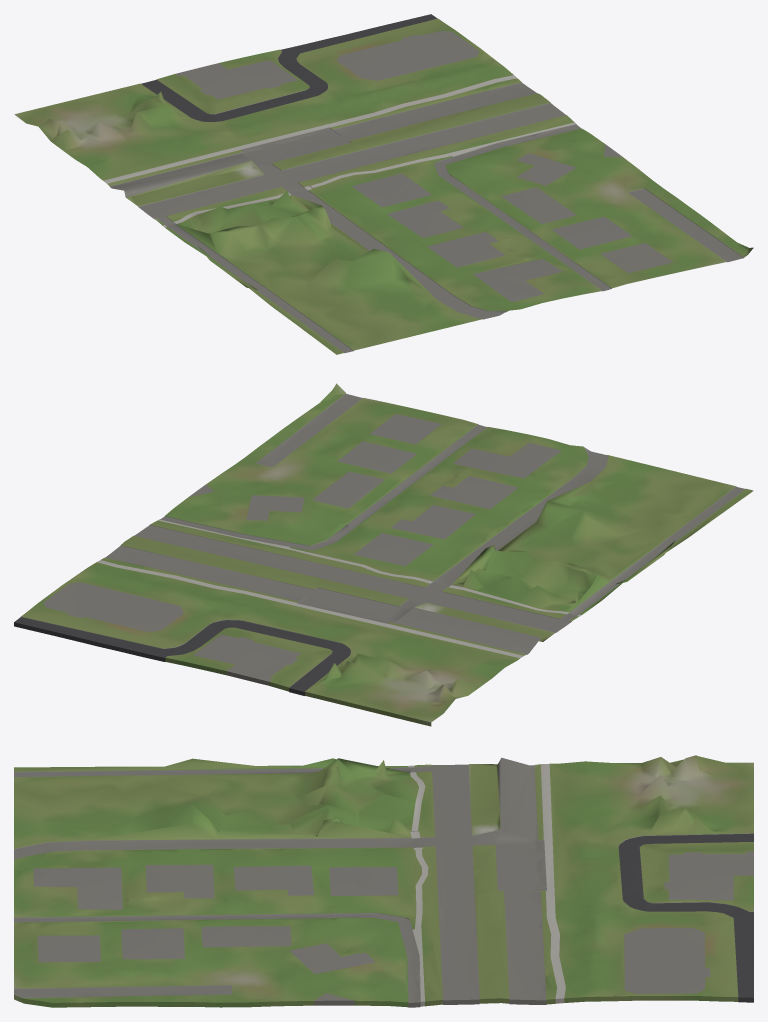
3 renders of one model, top to bottom at view 1: azimuth 30°, elevation 25°; view 2: azimuth 150°, elevation 25°; view 3: azimuth 270°, elevation 25°, orthographic. The views are drawn at different scales.
Parts seen in each view (by area): view 1: T--4-4.L1:utd:matte; view 2: T--4-4.L1:utd:matte; view 3: T--4-4.L1:utd:matte.
Boxes of the visible parts, x1,y1,x2,y2 form: T--4-4.L1:utd:matte: [14, 14, 753, 354]; T--4-4.L1:utd:matte: [14, 383, 753, 726]; T--4-4.L1:utd:matte: [14, 755, 753, 1007].
Bounding box in the file's own units: 158 × 7.84 × 211.
